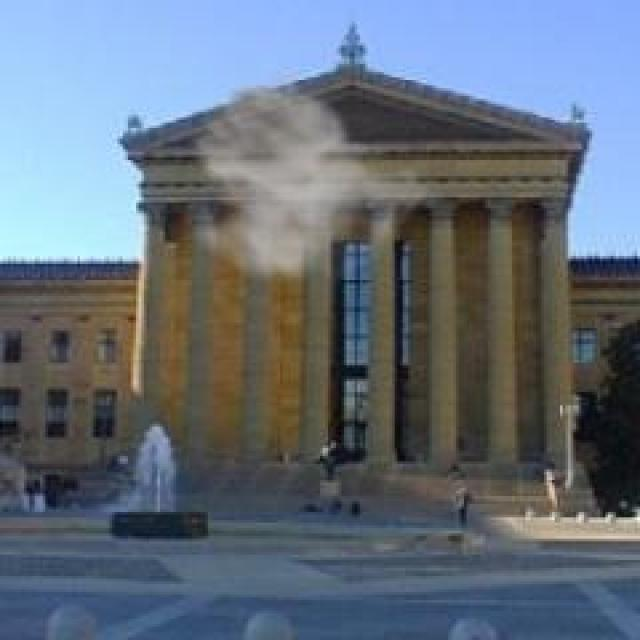Smoke: (185, 70, 428, 287)
